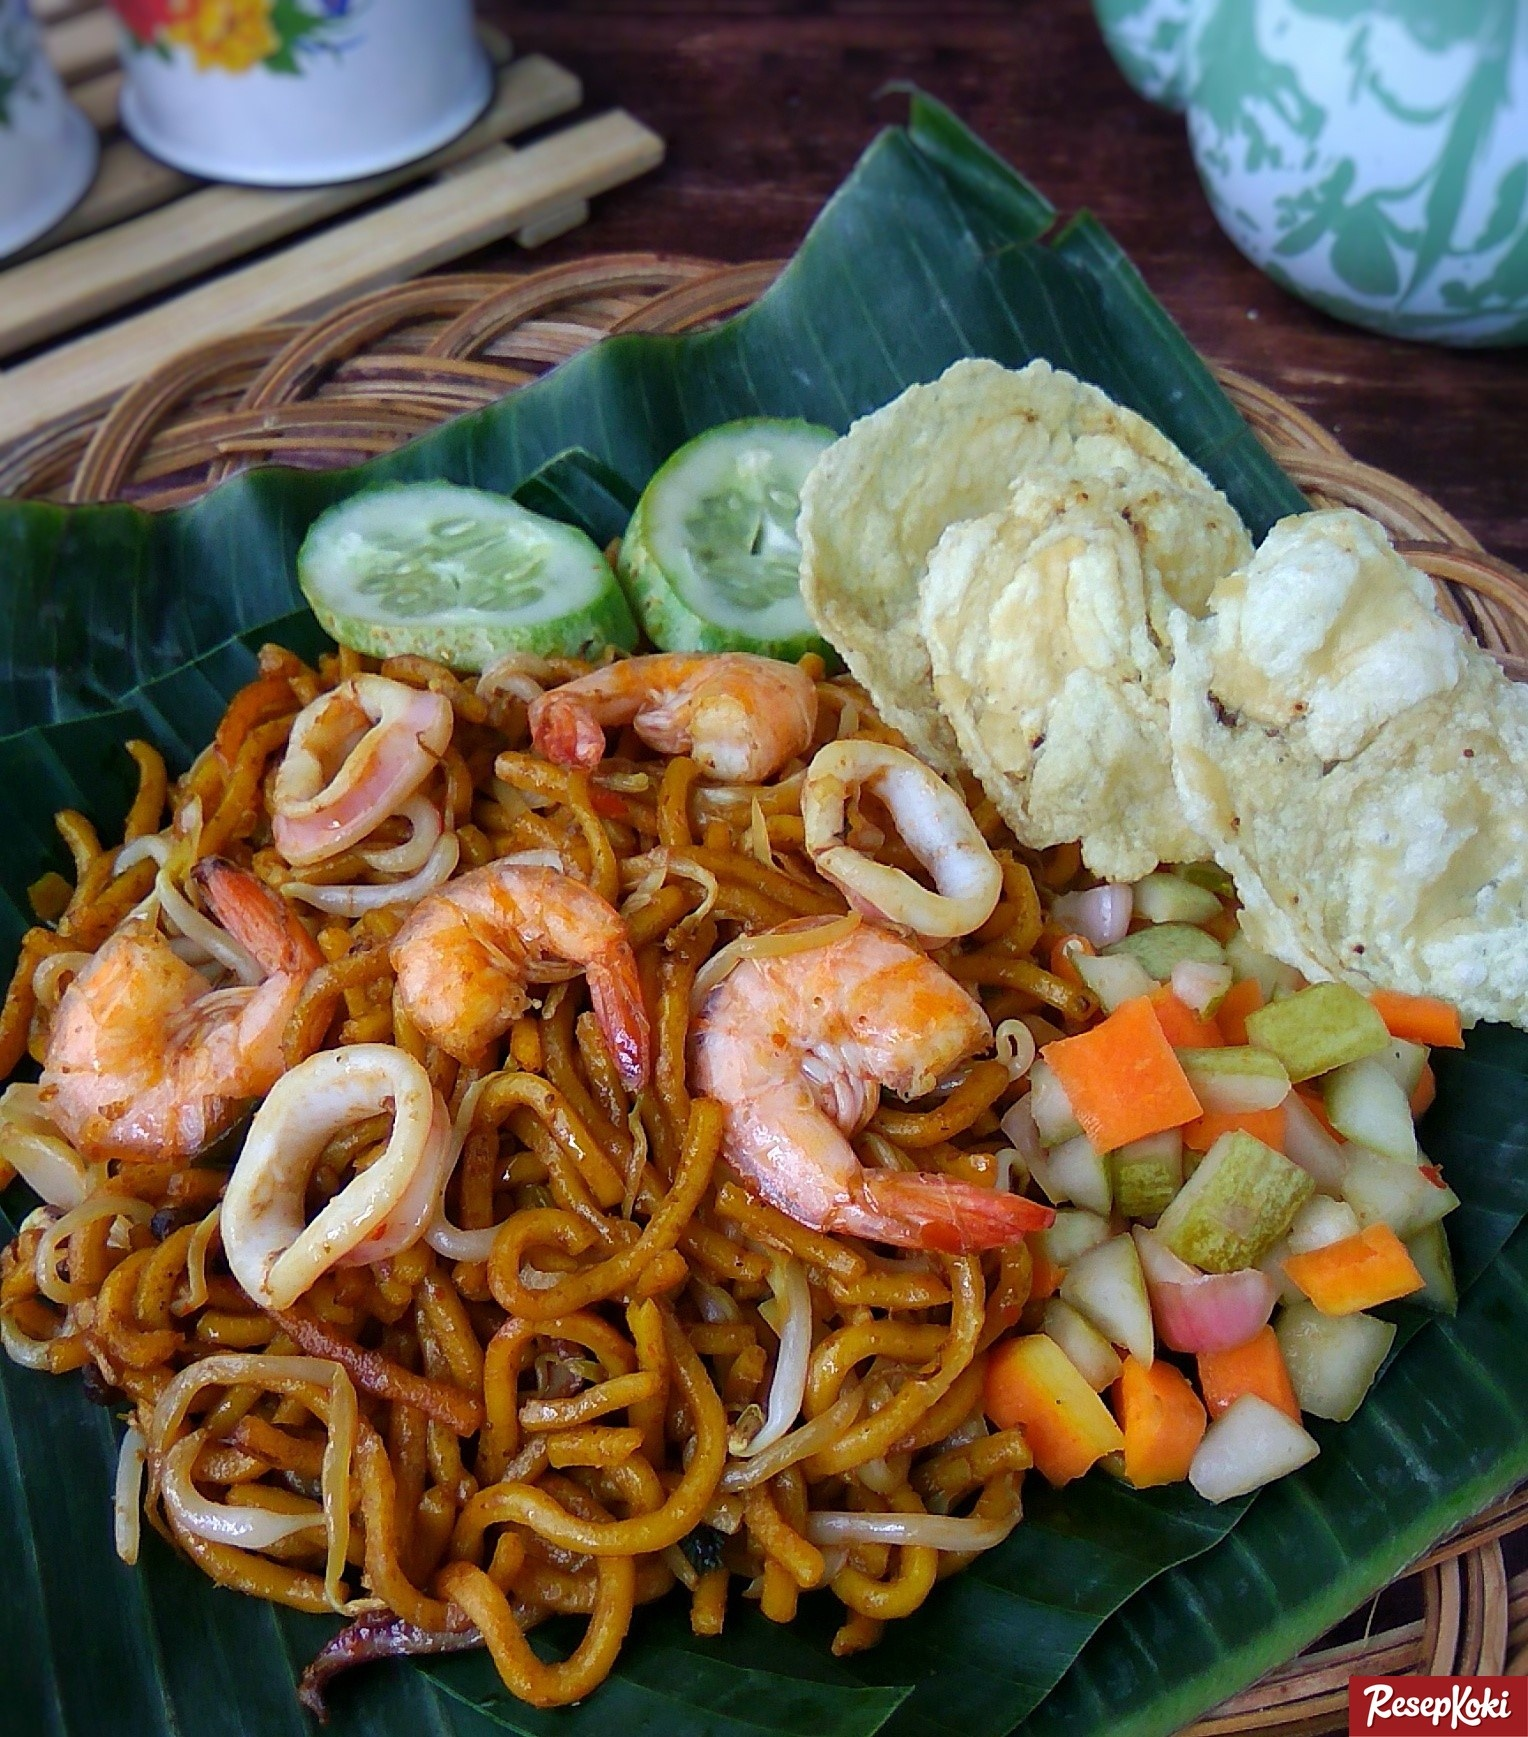mie_aceh: (4, 676, 1050, 1700)
